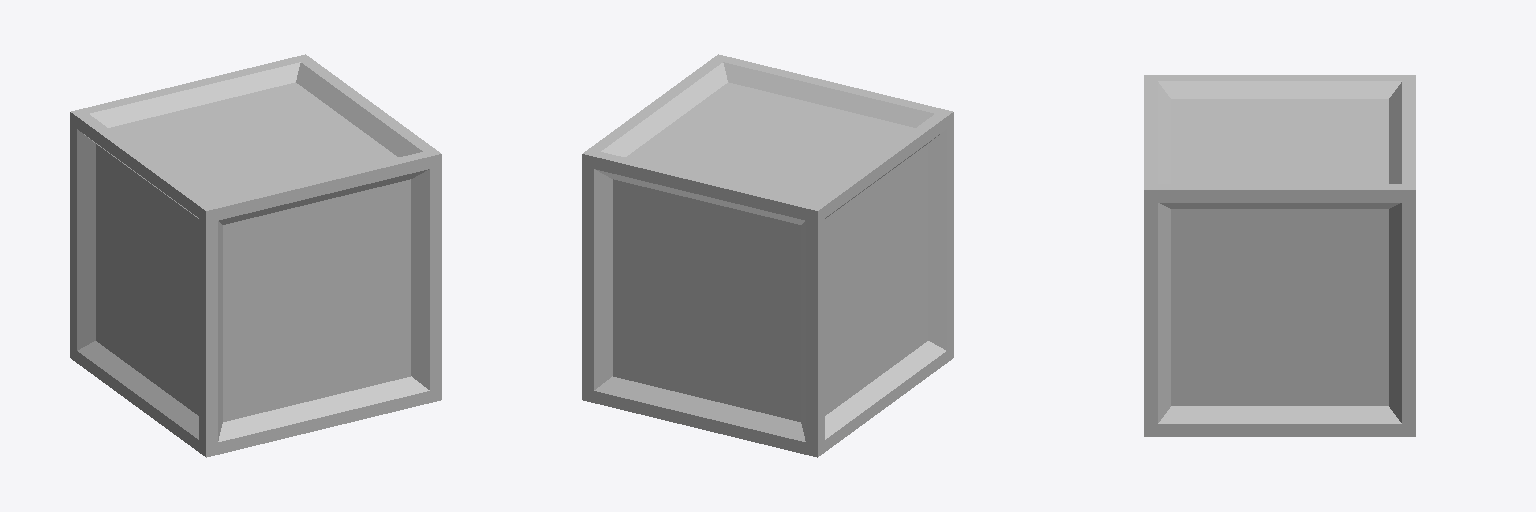
File: pbox.obj
The picture shows the model from 3 angles: view 1: azimuth 30°, elevation 25°; view 2: azimuth 150°, elevation 25°; view 3: azimuth 270°, elevation 25°; orthographic projection.
Visible parts, largest first — view 1: Image, Frame, Light; view 2: Image, Frame, Light; view 3: Image, Frame, Light.
Part boxes in pixels (bbox=[...]): Image: bbox=[102, 90, 399, 406]; Frame: bbox=[70, 54, 441, 457]; Light: bbox=[77, 62, 429, 441]; Image: bbox=[624, 90, 921, 406]; Frame: bbox=[582, 54, 953, 457]; Light: bbox=[594, 62, 946, 441]; Image: bbox=[1185, 105, 1374, 393]; Frame: bbox=[1144, 75, 1415, 436]; Light: bbox=[1158, 81, 1401, 423].
Size of the model in its own units: 2 by 2 by 2.